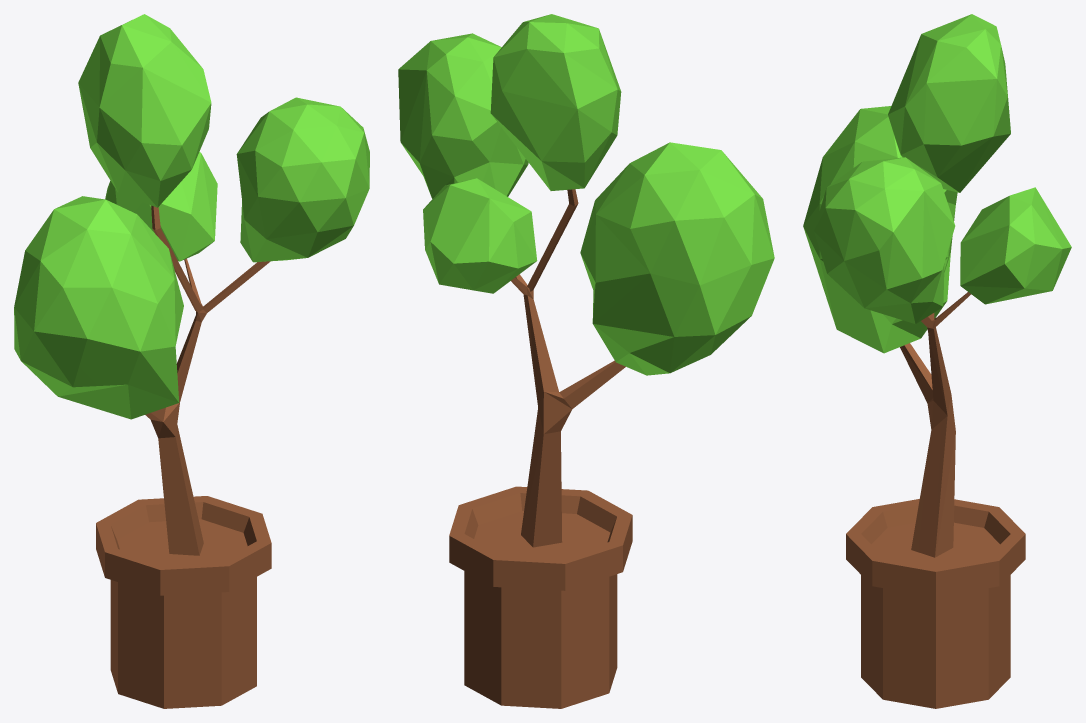
Rendered from Flower03.fbx.
3 renders of one model, left to right at view 1: azimuth 30°, elevation 25°; view 2: azimuth 150°, elevation 25°; view 3: azimuth 270°, elevation 25°, orthographic. The views are drawn at different scales.
Visible parts, largest first — view 1: Flower_03; view 2: Flower_03; view 3: Flower_03.
Part boxes in pixels (<box>): Flower_03: <box>14,14,369,708</box>; Flower_03: <box>398,14,774,708</box>; Flower_03: <box>803,14,1071,708</box>.
Bounding box in the file's own units: 128 × 231 × 87.45.
